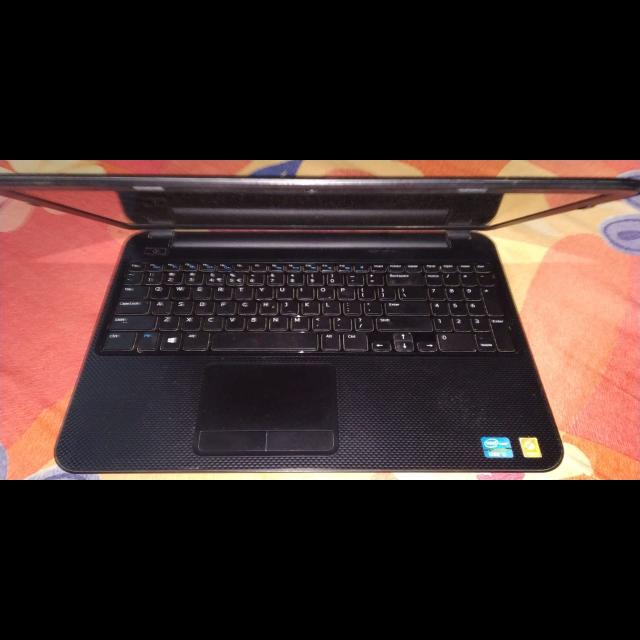Laptop: (1, 169, 586, 476)
